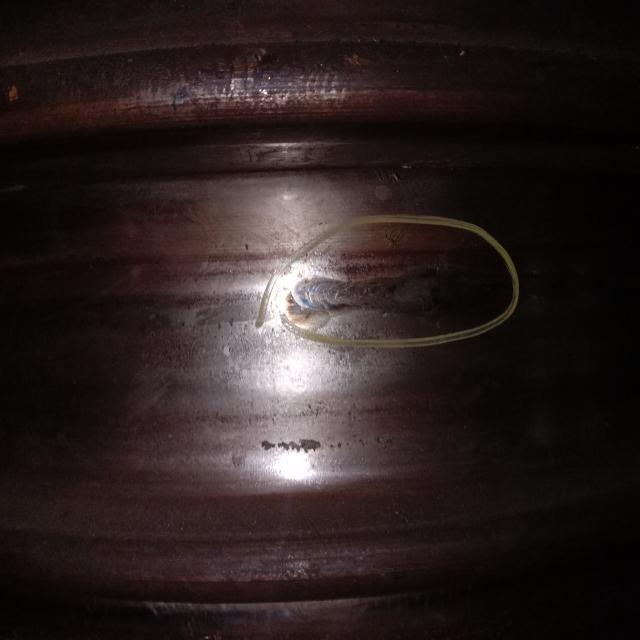Rollerpile: (295, 262, 438, 325)
